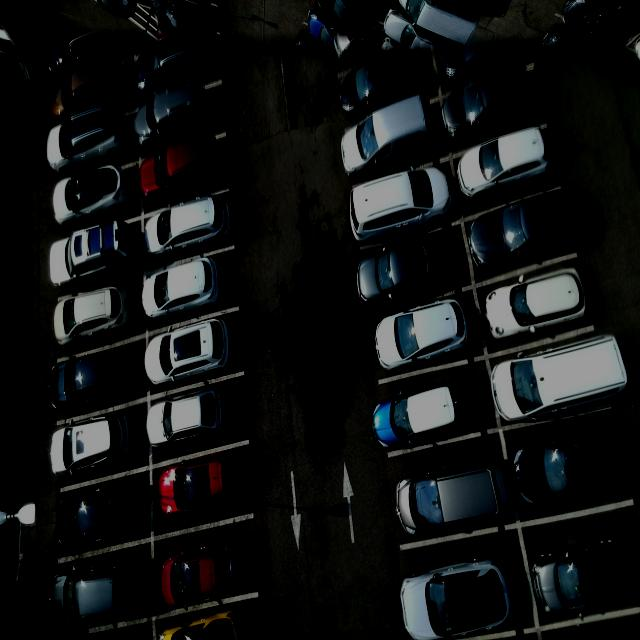car: (491, 336, 629, 425), (513, 428, 640, 512), (392, 459, 512, 539), (399, 556, 512, 640), (349, 160, 455, 247), (472, 195, 592, 270), (338, 95, 438, 181), (533, 538, 639, 617), (444, 61, 539, 148), (374, 297, 474, 374), (47, 558, 149, 633), (158, 448, 250, 528), (485, 268, 587, 340), (459, 127, 554, 200), (145, 315, 237, 390), (374, 382, 466, 455), (160, 537, 247, 610), (338, 48, 423, 120), (355, 243, 448, 308), (143, 134, 225, 206), (53, 485, 142, 551), (50, 414, 138, 480), (49, 347, 135, 414), (133, 83, 213, 155), (48, 224, 137, 287), (47, 107, 129, 175), (50, 163, 132, 230), (145, 195, 234, 256), (52, 283, 132, 348), (46, 56, 123, 120), (142, 261, 225, 319), (147, 387, 225, 448), (132, 36, 214, 94)
